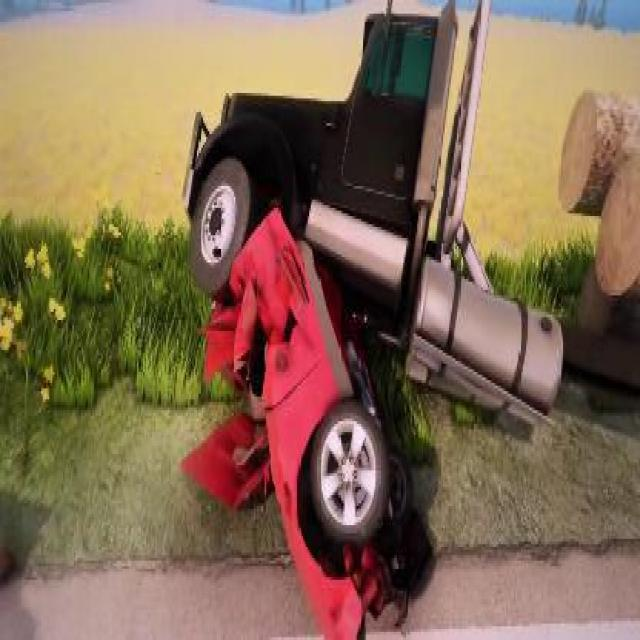accident: (155, 0, 569, 637)
